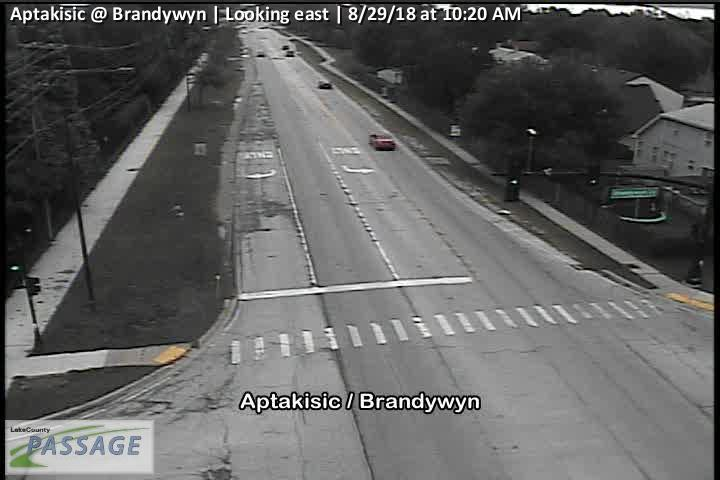Sedan: (368, 131, 396, 150), (318, 79, 332, 89), (284, 49, 294, 56), (255, 49, 264, 56)
